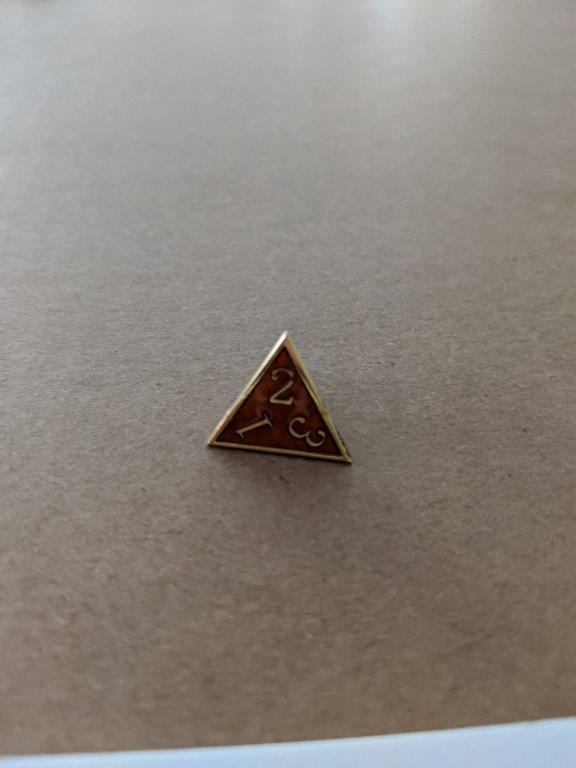d4-2: (201, 328, 362, 476)
